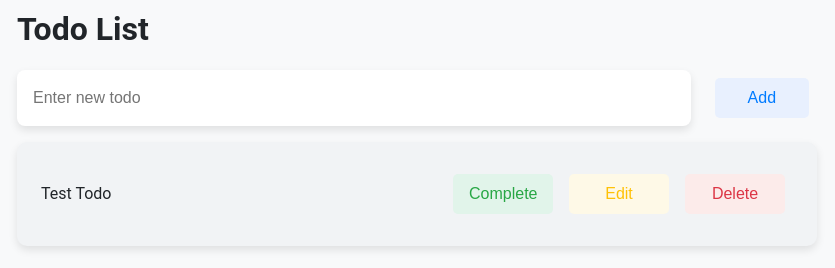
it: TodoList Component › should delete a todo
expect the text "Test Todo" is shown: met, box [41,184,112,203]
Click the button "Delete" at (735, 194), box [685,174,785,214]
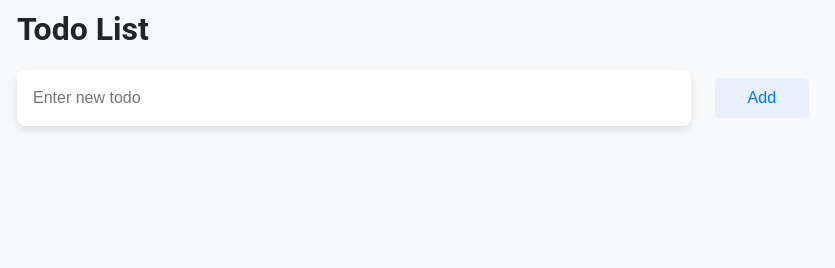
expect the text "Test Todo" is gone: met
